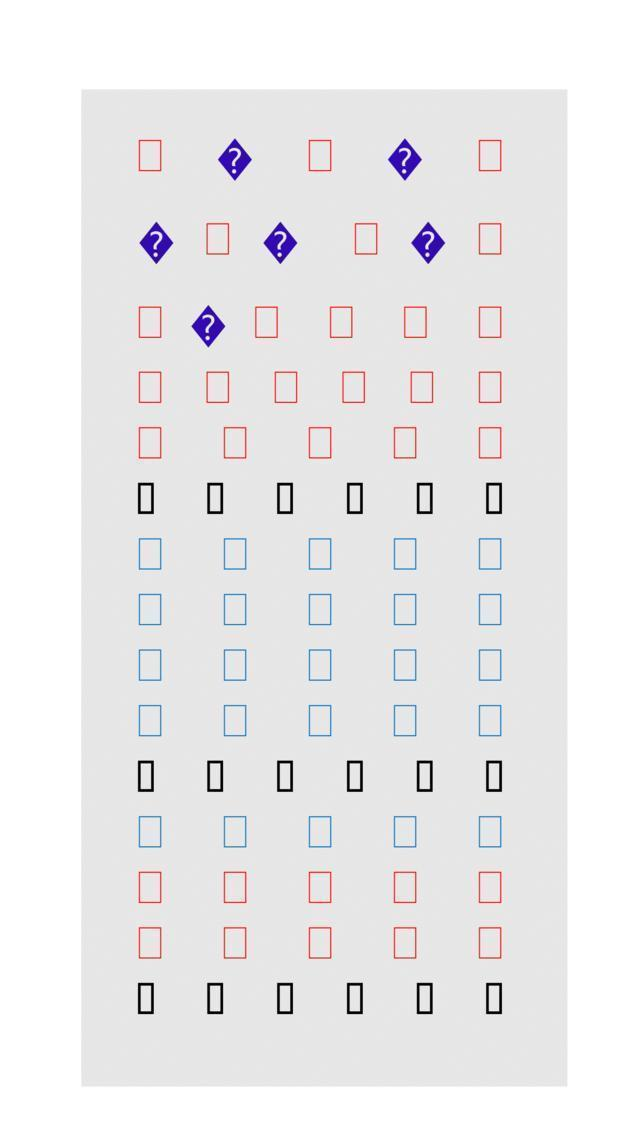ASCII: (410, 218, 446, 268), (218, 134, 252, 186), (262, 220, 298, 268), (192, 304, 226, 354), (388, 135, 422, 183), (138, 222, 174, 264), (134, 868, 164, 910), (133, 924, 166, 962), (474, 813, 506, 852), (329, 302, 357, 346), (274, 366, 302, 410), (476, 865, 505, 907), (305, 866, 334, 908), (220, 590, 250, 630), (134, 646, 164, 686), (390, 700, 420, 740), (136, 812, 166, 852), (388, 646, 419, 684), (254, 304, 282, 346), (204, 367, 232, 409), (352, 219, 380, 261), (204, 218, 232, 260), (392, 422, 420, 464), (401, 303, 429, 345), (138, 304, 166, 346), (274, 474, 298, 522), (340, 367, 368, 408), (409, 367, 437, 408), (308, 137, 336, 178), (476, 421, 504, 462), (390, 810, 418, 851), (305, 924, 335, 962), (476, 220, 506, 258), (393, 924, 420, 966), (476, 367, 505, 406), (204, 474, 228, 521), (344, 974, 368, 1021), (221, 423, 249, 463), (222, 646, 250, 686), (476, 701, 504, 741), (221, 811, 249, 851), (308, 424, 335, 465), (413, 974, 436, 1022), (344, 476, 367, 524), (136, 369, 164, 408), (136, 423, 164, 462), (477, 647, 505, 686), (391, 866, 417, 908), (221, 868, 248, 908), (476, 591, 505, 628), (306, 138, 334, 176), (476, 534, 504, 572), (476, 136, 504, 174), (306, 591, 334, 629), (390, 590, 418, 628), (204, 976, 227, 1022), (274, 976, 297, 1022), (204, 756, 228, 800), (305, 703, 334, 739), (308, 922, 334, 962), (137, 136, 163, 176), (476, 304, 504, 341), (306, 647, 334, 684), (483, 977, 506, 1022), (414, 478, 437, 523), (344, 752, 367, 797), (136, 702, 163, 740), (222, 702, 248, 741), (414, 755, 437, 799), (274, 752, 297, 796), (222, 534, 248, 572), (138, 590, 164, 628), (223, 924, 249, 962), (307, 812, 332, 851), (136, 978, 158, 1022), (307, 536, 332, 574), (482, 480, 504, 523), (135, 478, 157, 521), (308, 536, 334, 572), (392, 536, 418, 572), (134, 756, 156, 798), (484, 756, 506, 798), (478, 926, 505, 960), (138, 536, 162, 574)
